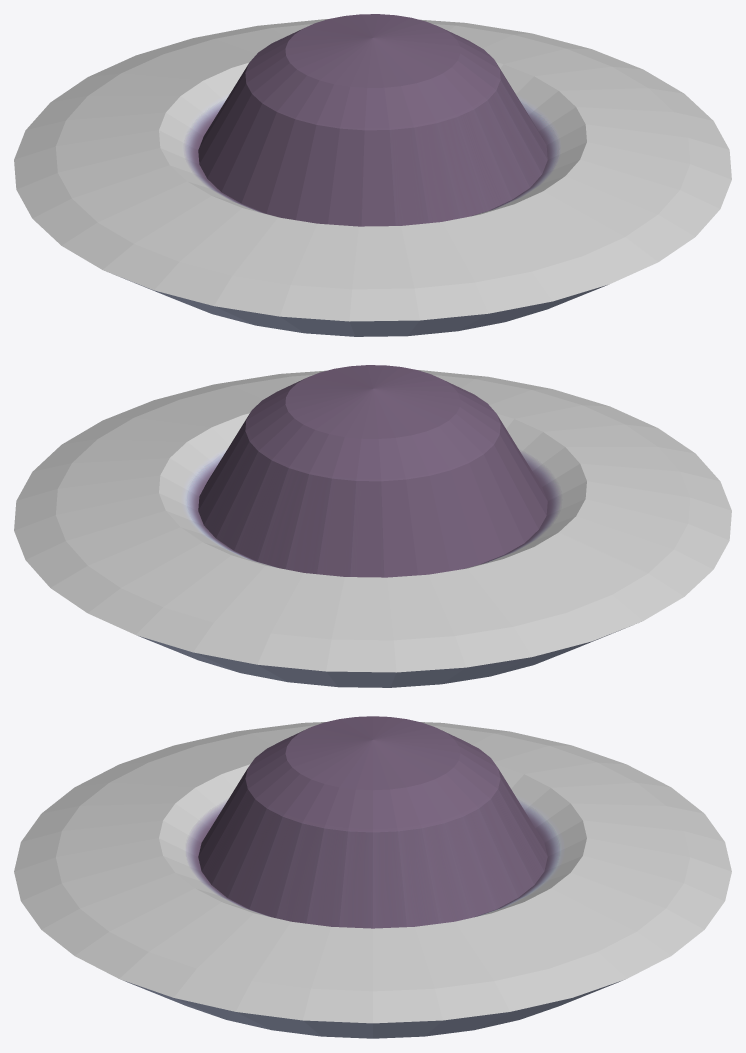
Rendered from UFO.fbx.
The picture shows the model from 3 angles, top to bottom: view 1: azimuth 30°, elevation 25°; view 2: azimuth 150°, elevation 25°; view 3: azimuth 270°, elevation 25°; orthographic projection.
Visible parts, largest first — view 1: Cylinder; view 2: Cylinder; view 3: Cylinder.
Boxes of the visible parts, x1=… form: Cylinder: x1=14, y1=14, x2=731, y2=336; Cylinder: x1=14, y1=365, x2=731, y2=687; Cylinder: x1=14, y1=716, x2=731, y2=1038.
Size of the model in its own units: 187 by 53.91 by 187.
1 material, 1 textured.
